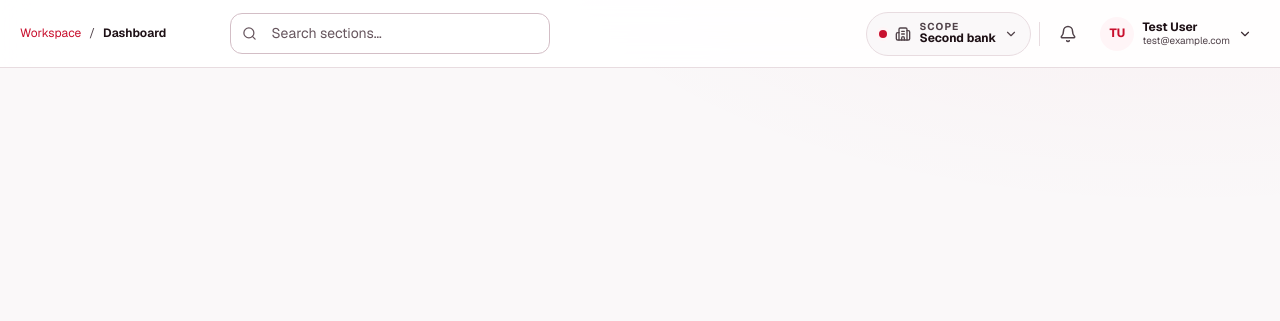
Test case: topbar keyboard behaviour › lets Tab move through the user menu and closes it on Escape
The image size is (1280, 321).
Click the button named "Open user menu". click: (1176, 34)
box: 1092,12 -> 1260,54
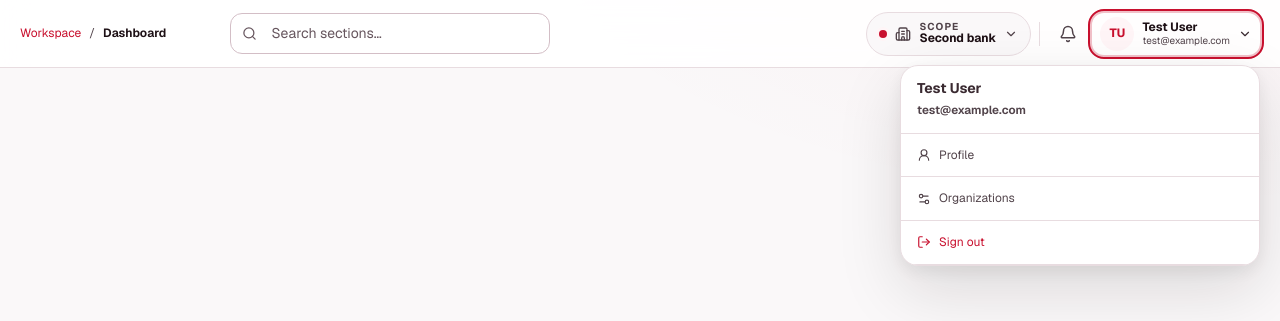
Check: the menu item "Profile" is shown, box 901,134 -> 1259,178
Press Tab
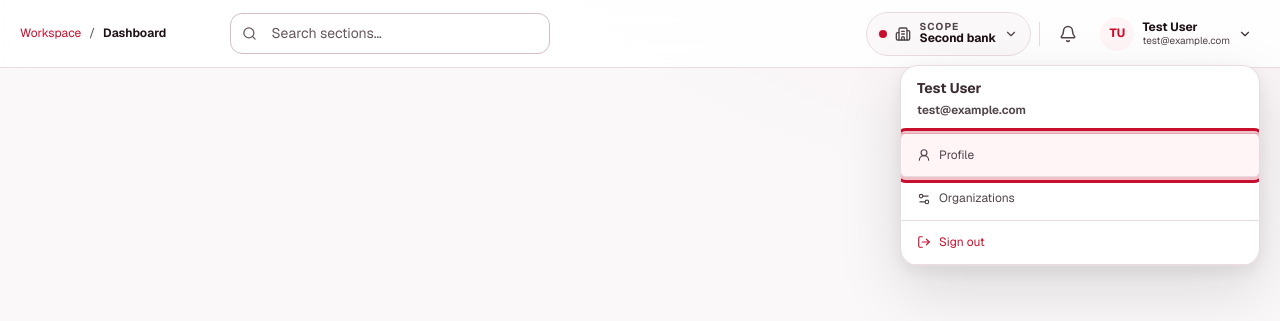
Check: the menu named "User menu" is shown, box 900,64 -> 1260,266
Press Escape
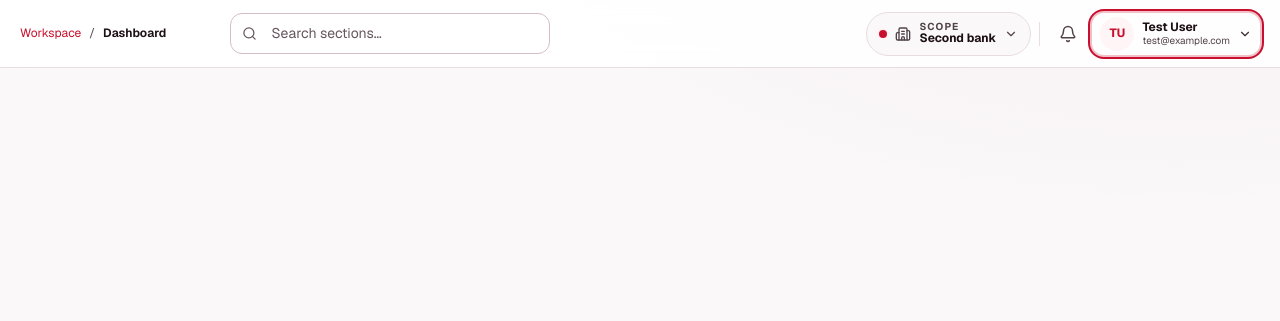
Check: the menu "User menu" is gone
